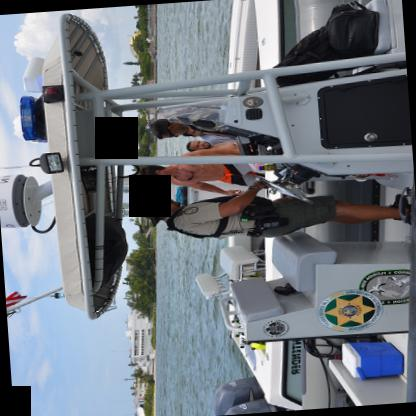suitcase: (328, 2, 377, 58)
